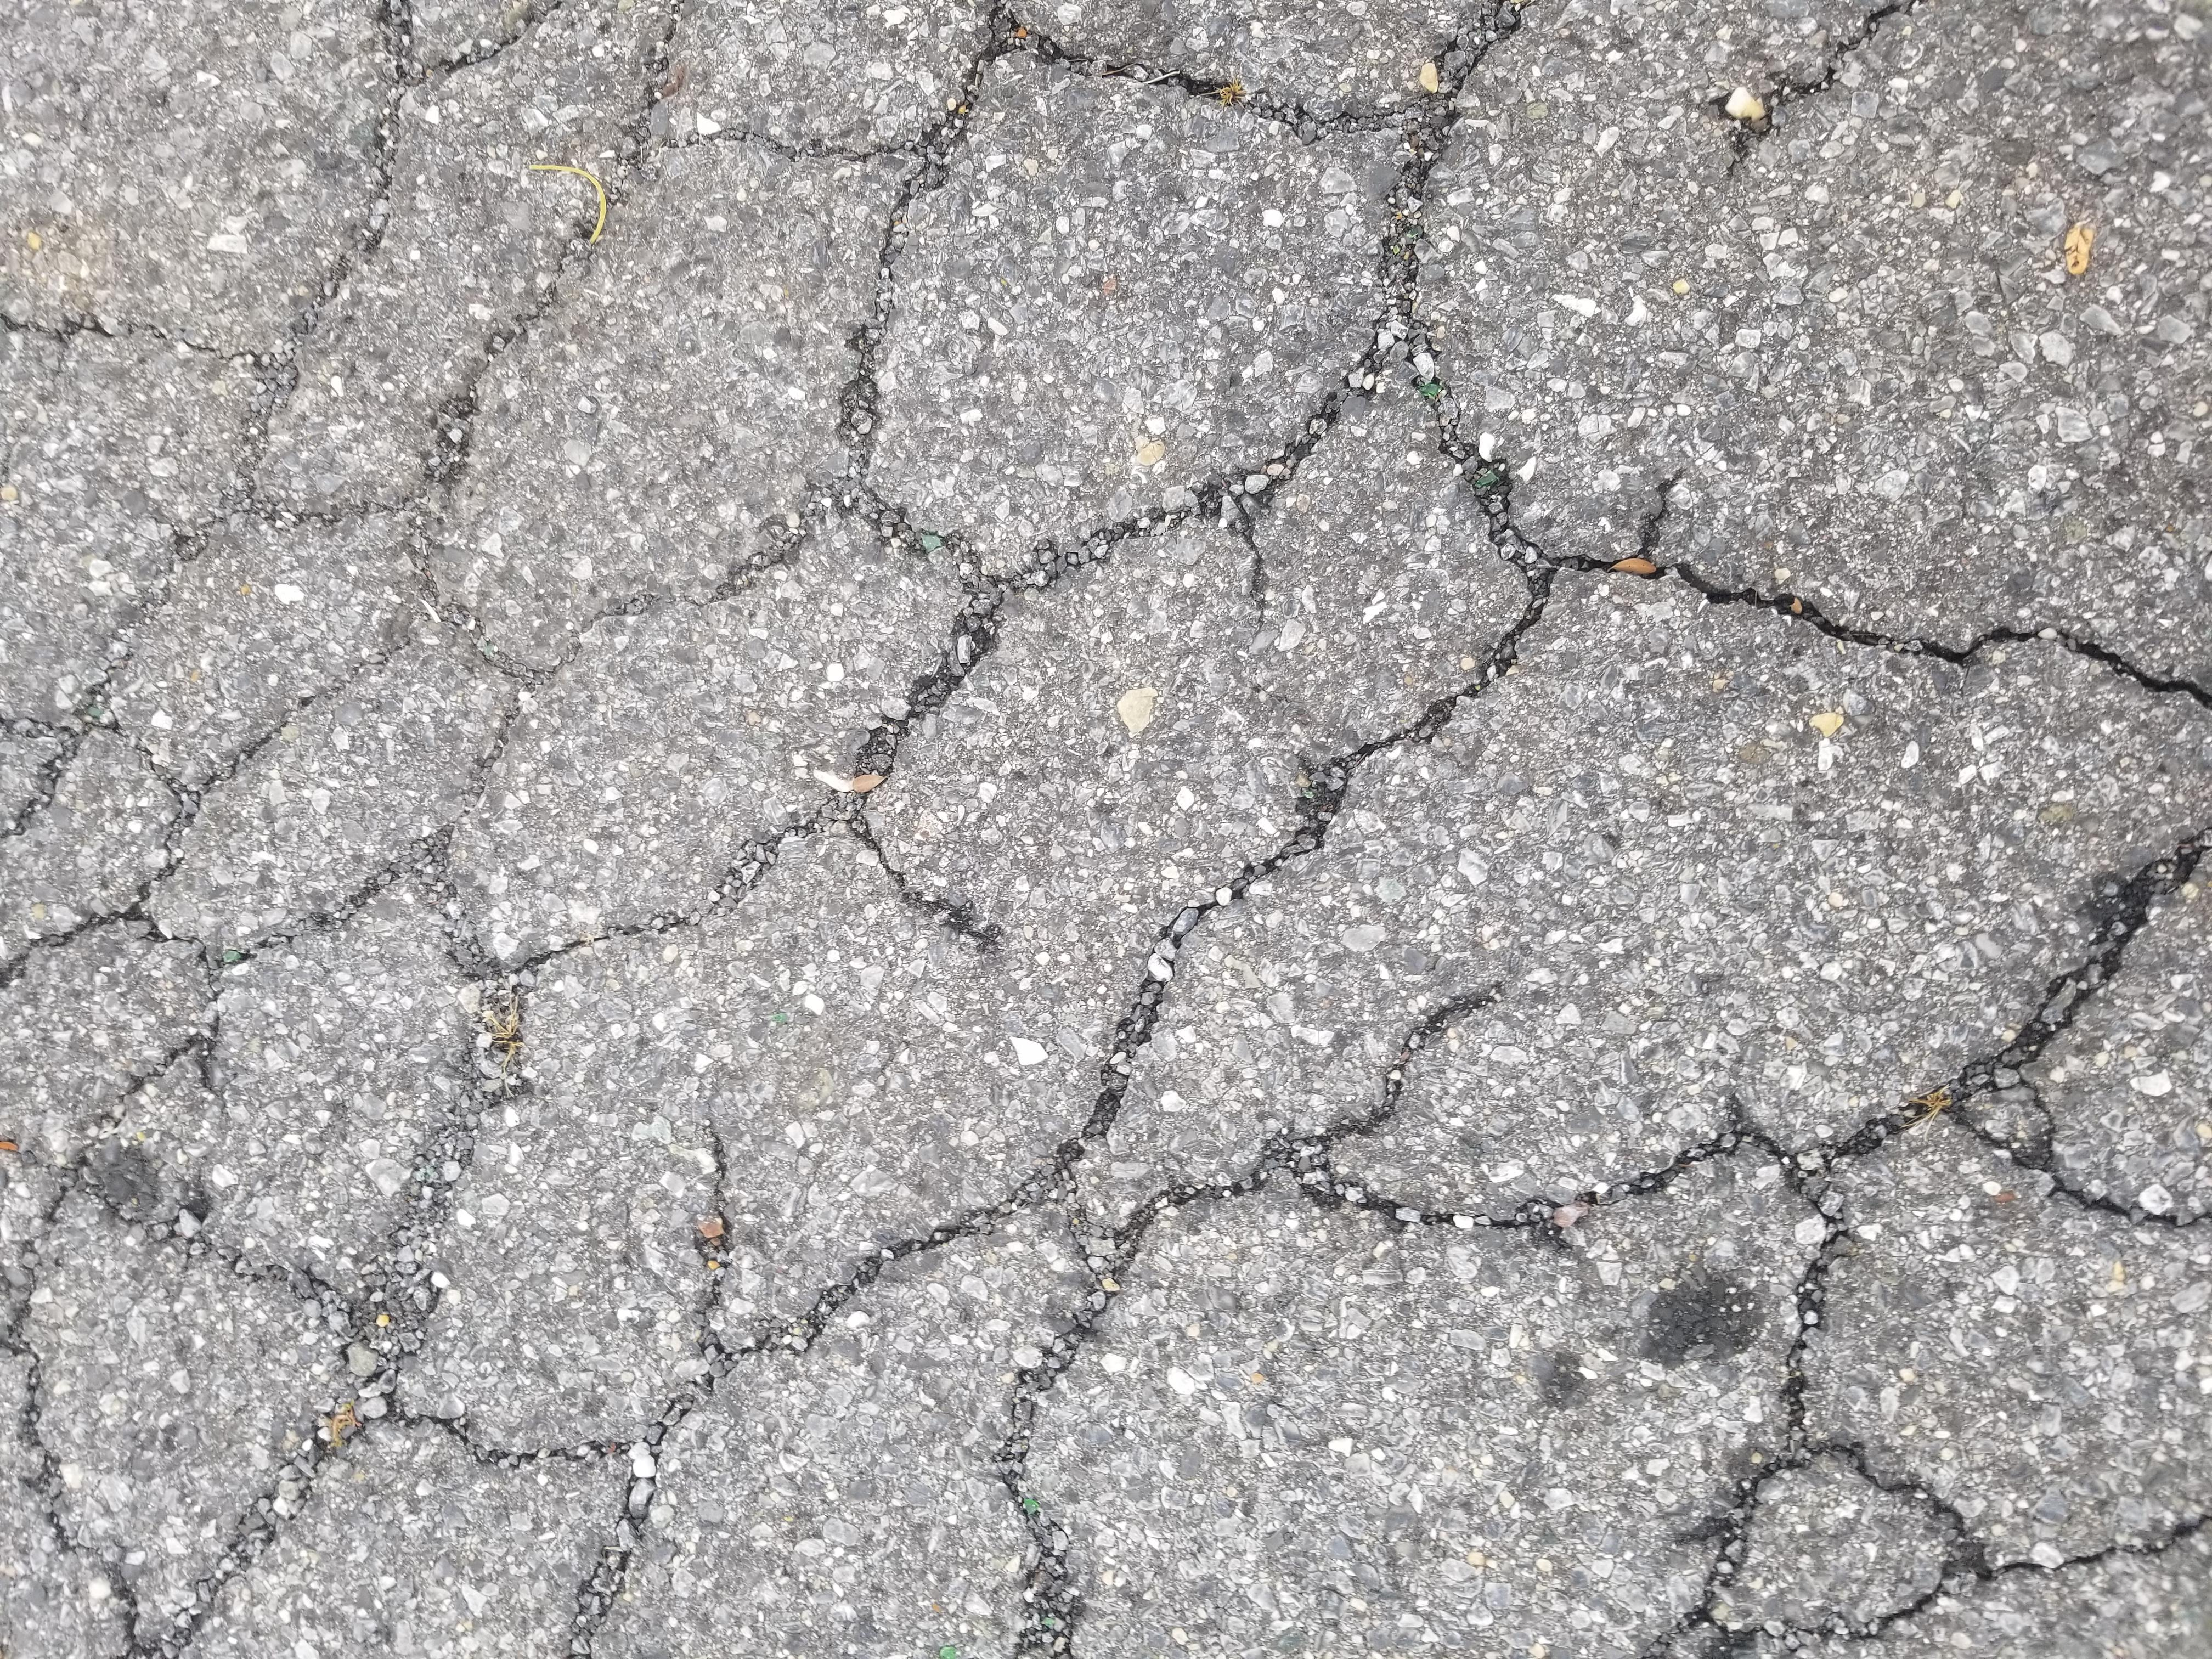alligator-crack: (21, 10, 2168, 1659)
